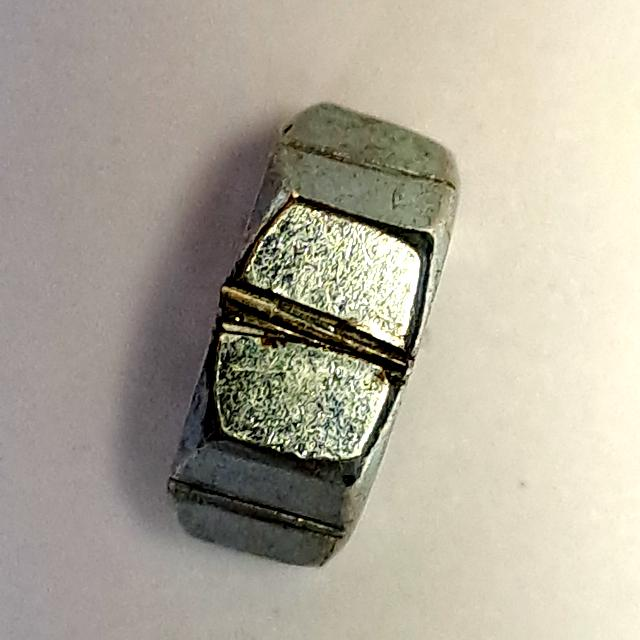Side_Scratches: (143, 92, 472, 586)
